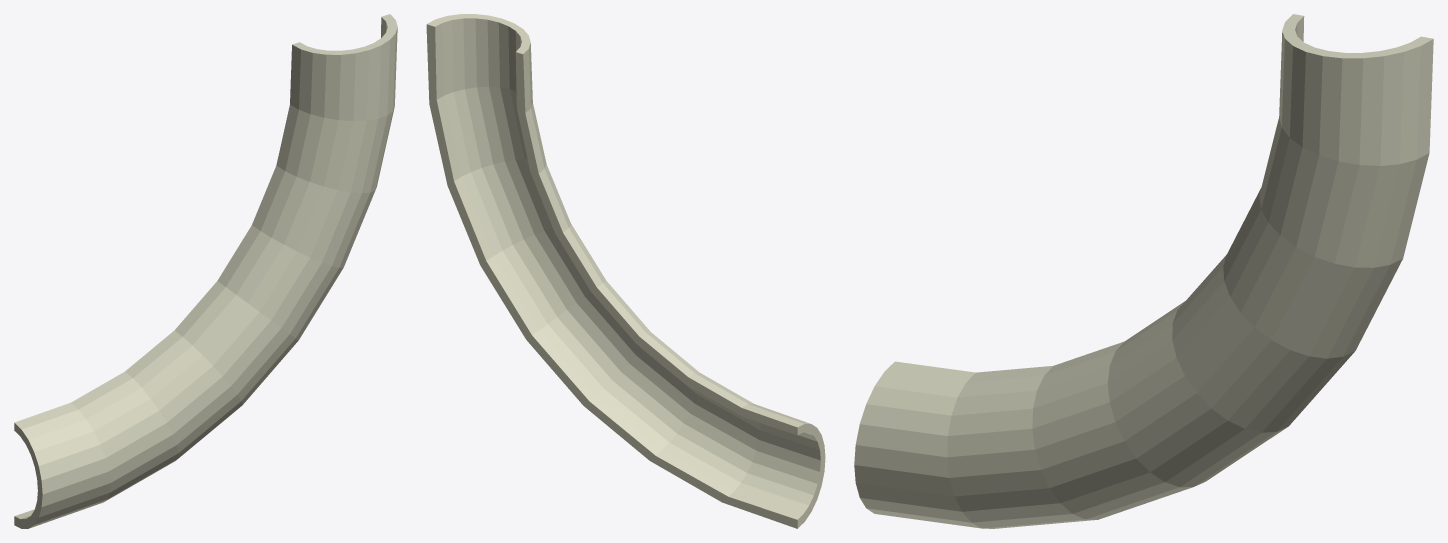
Rendered from section_444.obj.
3 views of the same model, side by side, from view 1: azimuth 30°, elevation 25°; view 2: azimuth 150°, elevation 25°; view 3: azimuth 330°, elevation 25° (orthographic). The views are drawn at different scales.
Bounding box in the file's own units: 45.9 × 48.98 × 6.
